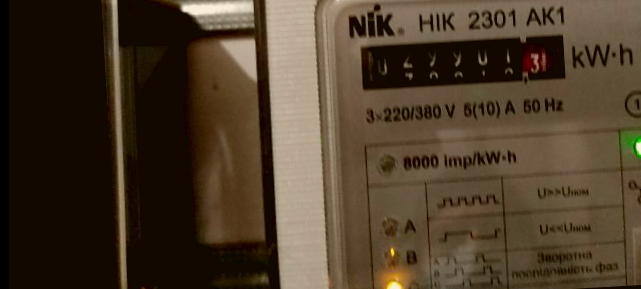0: (474, 41, 491, 67), (374, 53, 390, 76)
1: (501, 40, 515, 65)
2: (399, 47, 416, 69)
3: (527, 50, 543, 74)
9: (450, 45, 464, 69), (425, 45, 439, 67)
screen: (352, 26, 576, 100)
